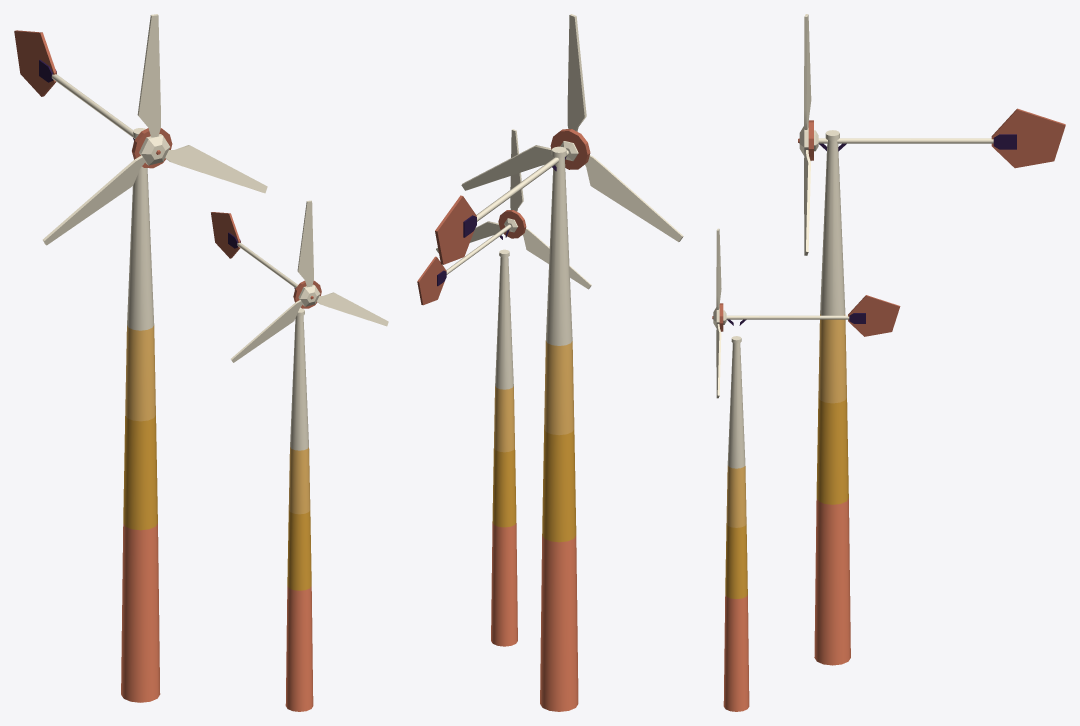
File: M_Windmill_Var1_2.fbx
3 views of the same model, side by side, from view 1: azimuth 30°, elevation 25°; view 2: azimuth 150°, elevation 25°; view 3: azimuth 270°, elevation 25° (orthographic). The views are drawn at different scales.
Visible parts, largest first — view 1: M_Windmill_Var1_2; view 2: M_Windmill_Var1_2; view 3: M_Windmill_Var1_2.
Boxes of the visible parts, x1=… form: M_Windmill_Var1_2: x1=14, y1=14, x2=388, y2=711; M_Windmill_Var1_2: x1=417, y1=14, x2=683, y2=711; M_Windmill_Var1_2: x1=712, y1=14, x2=1065, y2=711.
Size of the model in its own units: 1.67 by 3.69 by 1.84.
